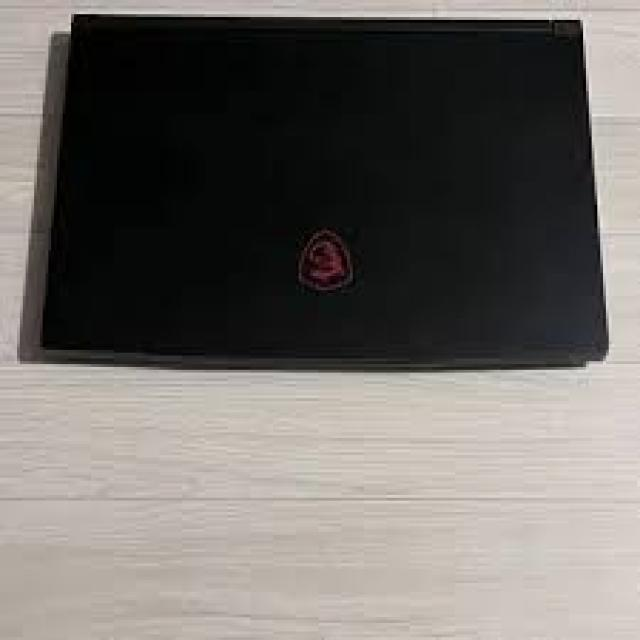laptop: (14, 11, 609, 370)
